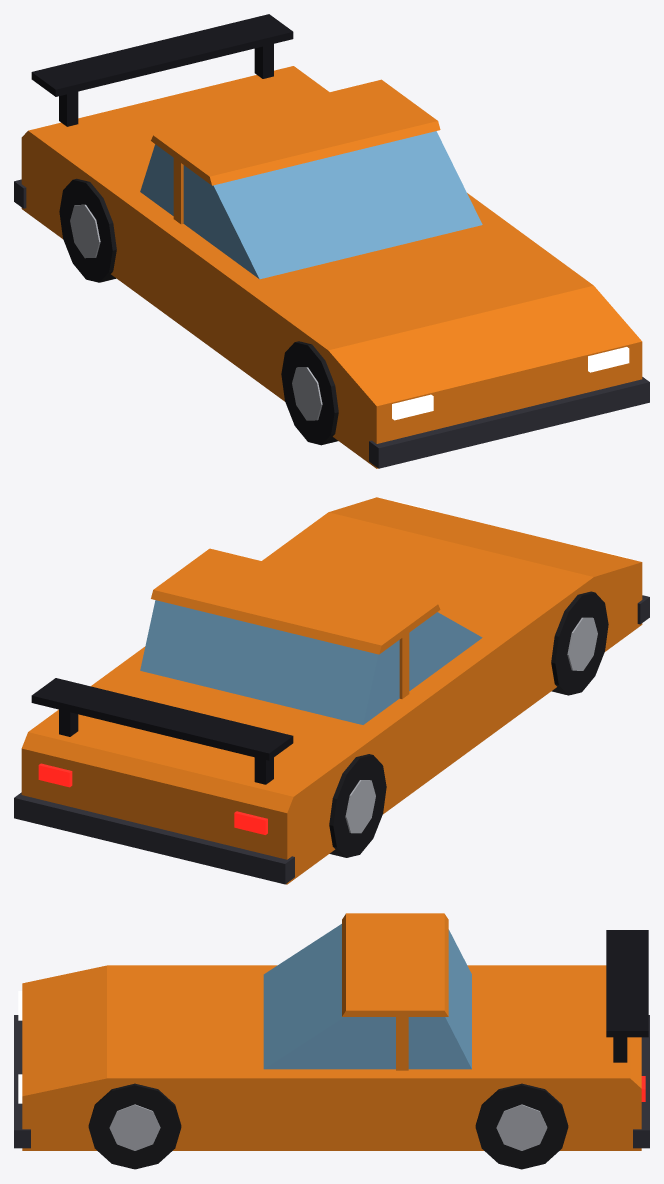
The model's file is car_sports.glb.
3 views of the same model, one above another, from view 1: azimuth 30°, elevation 25°; view 2: azimuth 150°, elevation 25°; view 3: azimuth 270°, elevation 25° (orthographic). The views are drawn at different scales.
Visible parts, largest first — view 1: car_sports; view 2: car_sports; view 3: car_sports.
Boxes of the visible parts, x1,y1,x2,y2 form: car_sports: [14, 14, 649, 468]; car_sports: [14, 497, 649, 884]; car_sports: [14, 913, 649, 1169].
Bounding box in the file's own units: 1.98 × 1.17 × 4.52.
